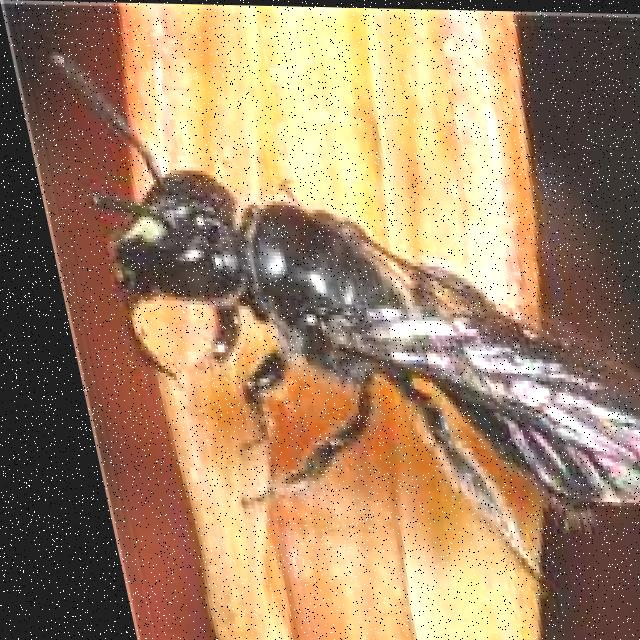Braunsapis: (36, 42, 640, 592)
